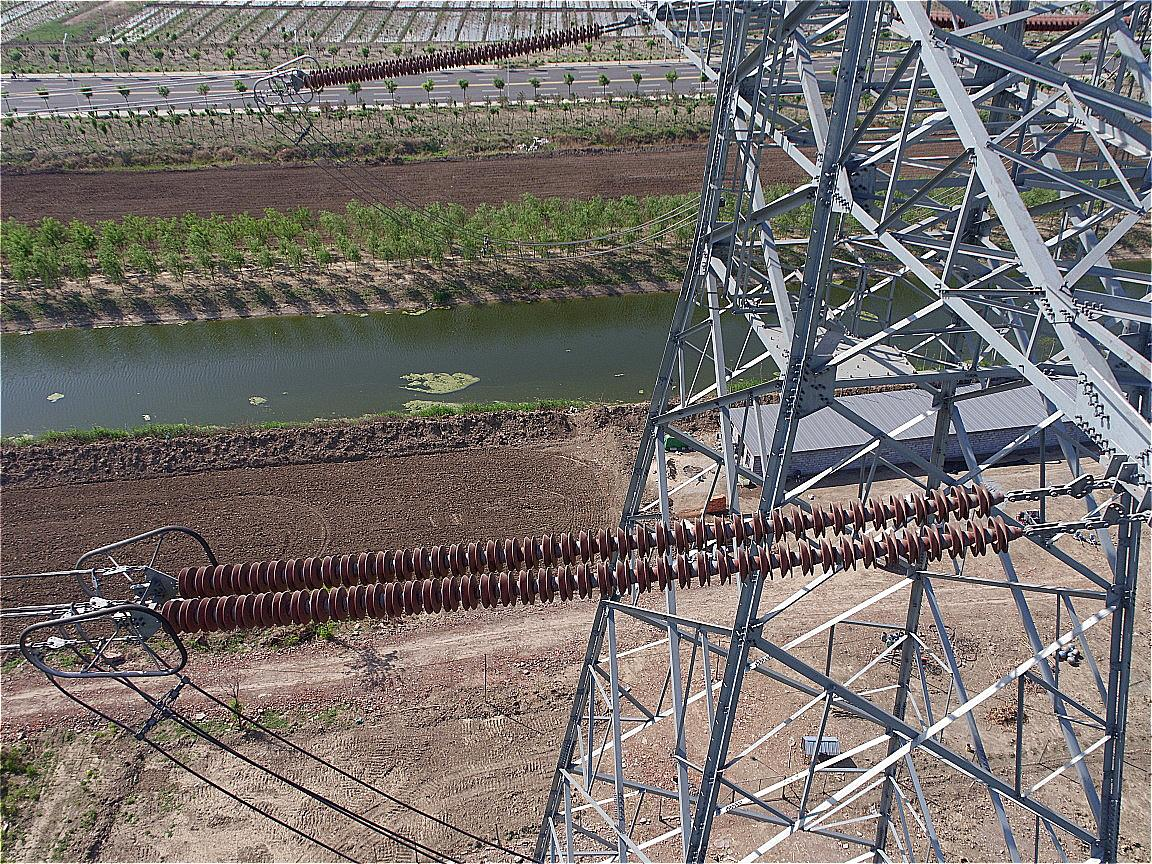insultor2: (161, 484, 1007, 634), (303, 21, 601, 90)
